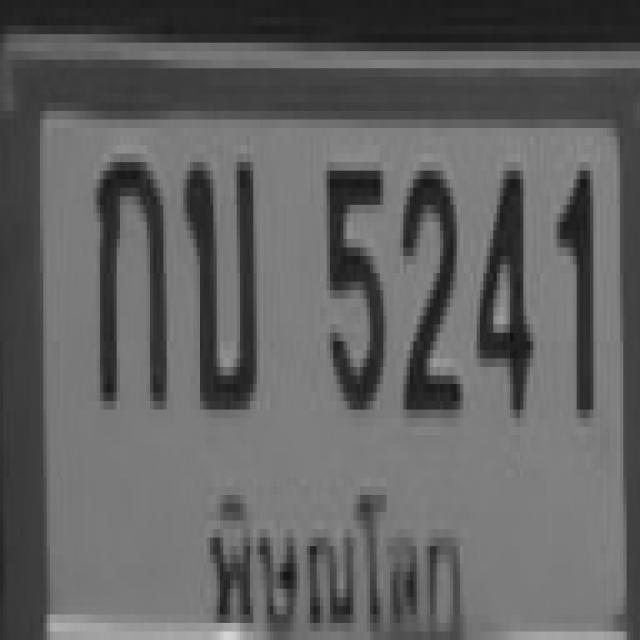1: (553, 162, 590, 410)
10GorGai: (94, 145, 164, 401)
2: (400, 162, 457, 410)
35BorBaiMai: (180, 150, 253, 406)
4: (473, 153, 530, 410)
5: (324, 154, 384, 401)
Phitsanulok: (198, 471, 472, 633)
